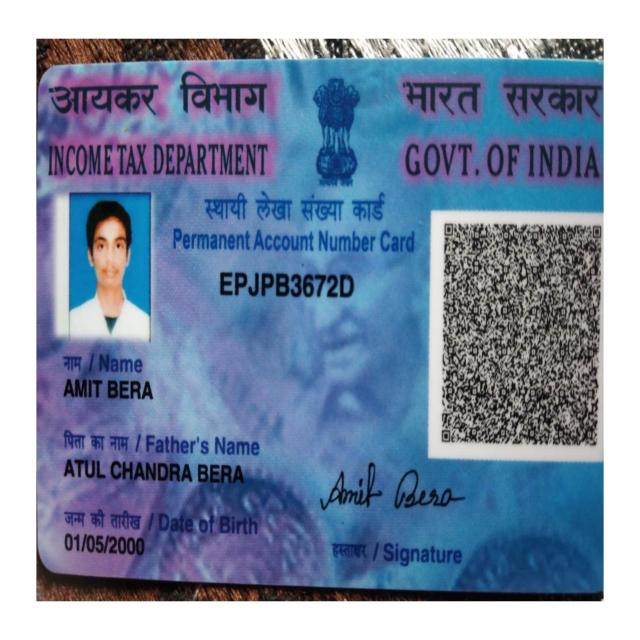pan_card: (42, 61, 605, 592)
